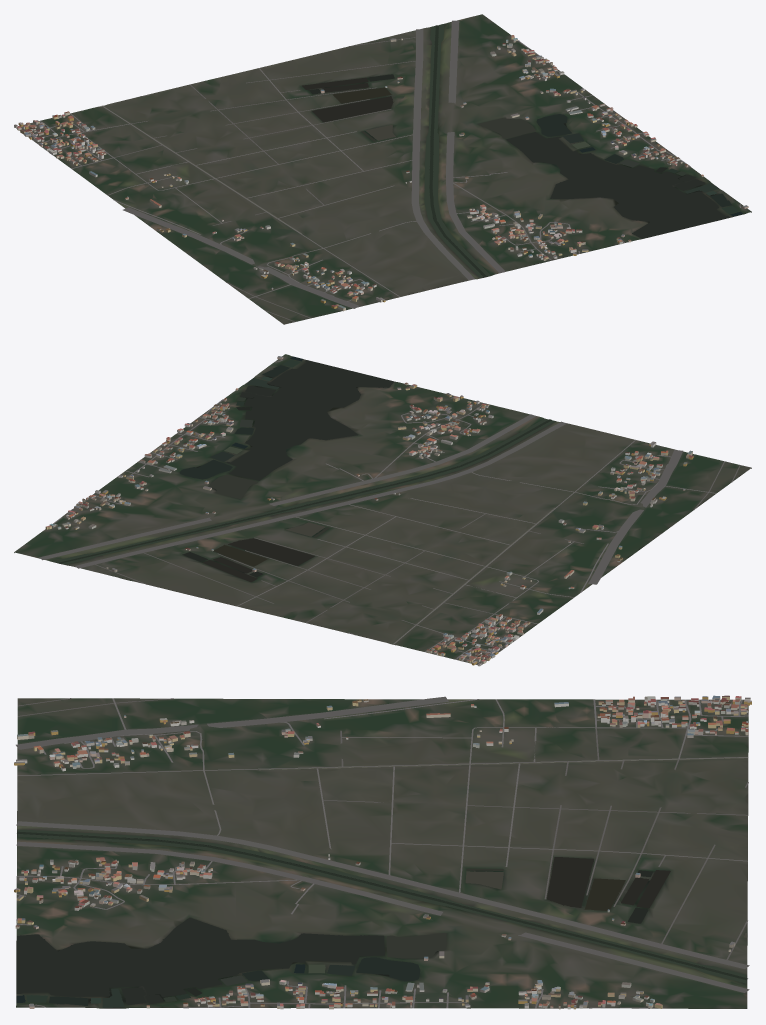
3 views of the same model, one above another, from view 1: azimuth 30°, elevation 25°; view 2: azimuth 150°, elevation 25°; view 3: azimuth 270°, elevation 25° (orthographic). The views are drawn at different scales.
Visible parts, largest first — view 1: ground, water, roads, buildings; view 2: ground, water, roads, buildings; view 3: ground, water, roads, buildings.
Part boxes in pixels (x1,y1,x2,y2): ground: [14, 14, 751, 324]; water: [103, 24, 743, 277]; roads: [22, 20, 741, 321]; buildings: [14, 35, 748, 311]; ground: [14, 354, 751, 665]; water: [53, 356, 555, 644]; roads: [39, 360, 740, 664]; buildings: [45, 356, 693, 666]; ground: [16, 698, 748, 1008]; water: [16, 757, 747, 1007]; roads: [16, 696, 749, 1008]; buildings: [14, 695, 751, 1009].
Size of the model in its own units: 1414 by 17.12 by 1415.
